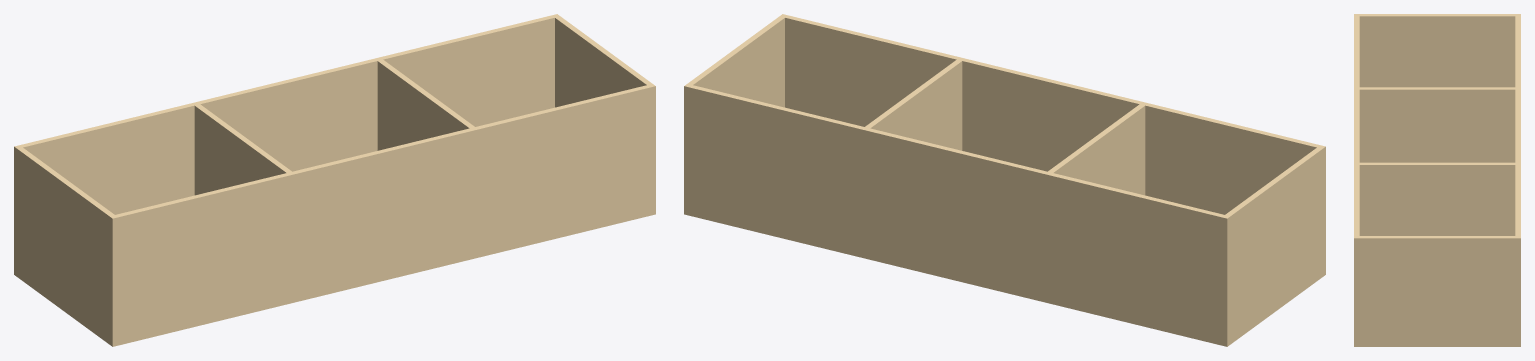
Rendered from cabinetTest1.obj.
3 renders of one model, left to right at view 1: azimuth 30°, elevation 25°; view 2: azimuth 150°, elevation 25°; view 3: azimuth 270°, elevation 25°, orthographic. The views are drawn at different scales.
Visible parts, largest first — view 1: Solid1, Solid1:1, Solid1:3, Solid1:5, Solid1:4, Solid1:2; view 2: Solid1:1, Solid1, Solid1:3, Solid1:5, Solid1:4, Solid1:2; view 3: Solid1:2, Solid1:5, Solid1:3, Solid1:4, Solid1, Solid1:1.
Boxes of the visible parts, x1,y1,x2,y2 form: Solid1: [109, 84, 655, 346]; Solid1:1: [14, 14, 559, 276]; Solid1:3: [17, 147, 114, 343]; Solid1:5: [194, 104, 291, 195]; Solid1:4: [377, 59, 474, 150]; Solid1:2: [555, 16, 652, 107]; Solid1:1: [684, 84, 1230, 346]; Solid1: [780, 14, 1325, 276]; Solid1:3: [1225, 147, 1322, 343]; Solid1:5: [1048, 104, 1145, 195]; Solid1:4: [865, 59, 962, 150]; Solid1:2: [687, 16, 784, 107]; Solid1:2: [1359, 236, 1515, 346]; Solid1:5: [1359, 87, 1515, 162]; Solid1:3: [1359, 14, 1515, 87]; Solid1:4: [1359, 162, 1515, 235]; Solid1: [1354, 14, 1359, 346]; Solid1:1: [1515, 14, 1520, 346].
Size of the model in its own units: 1750 by 395 by 550.
